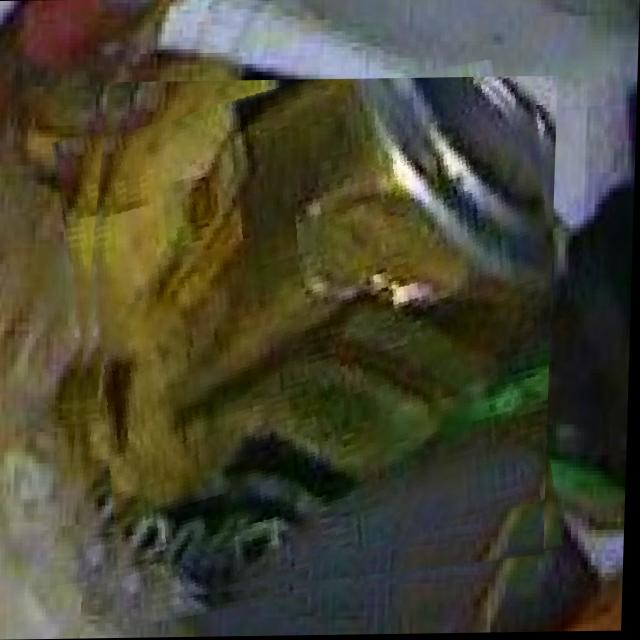can: (62, 76, 558, 611)
